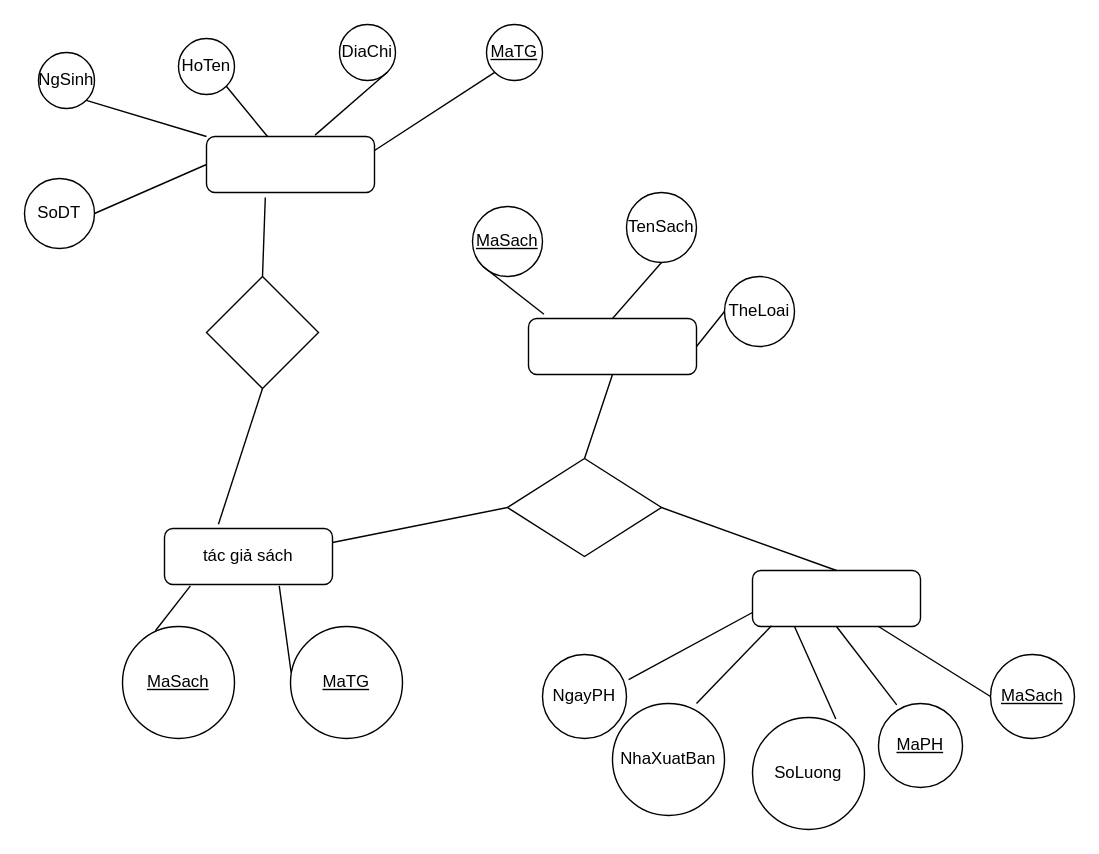
This 1099x854 diagram has some shape labels left out. Here are the shapes that lost their labels. From the top down, the centre of each, then its label:
At point 289,163: "tác giả".
At point 261,331: "có".
At point 611,345: "sách".
At point 584,506: "gồm".
At point 835,597: "phát hành".
